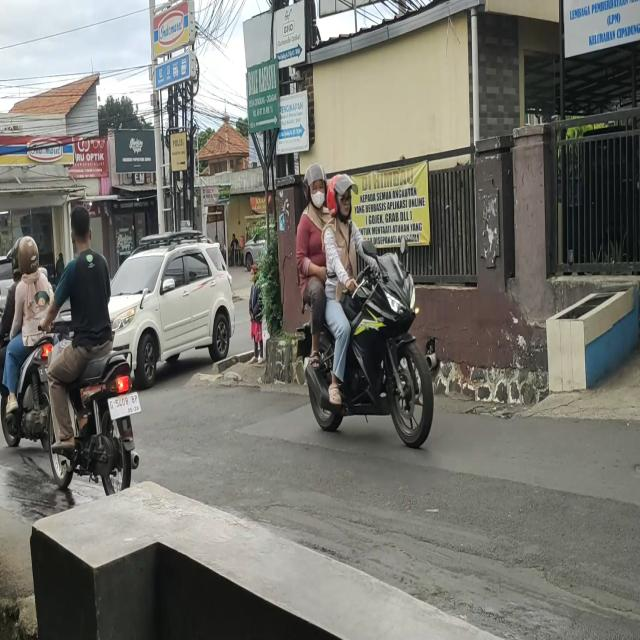helmet: (300, 166, 329, 212), (328, 175, 352, 225), (13, 234, 41, 276)
no-helmet: (70, 210, 91, 256)
